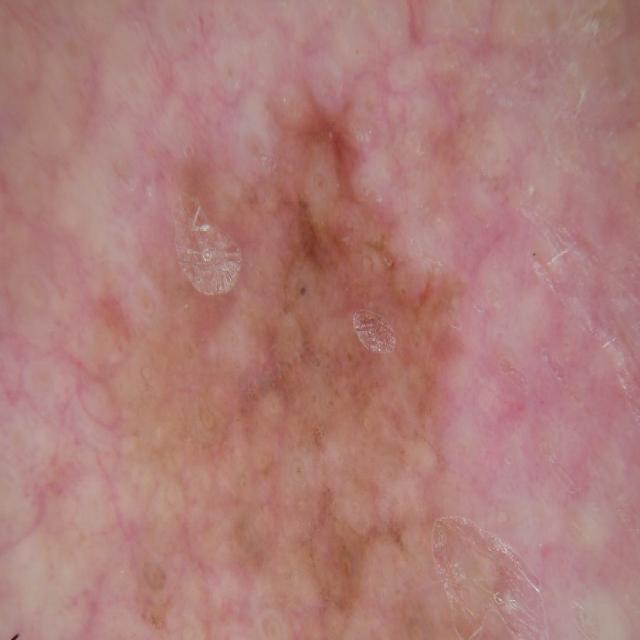Melanoma: (79, 101, 588, 640)
